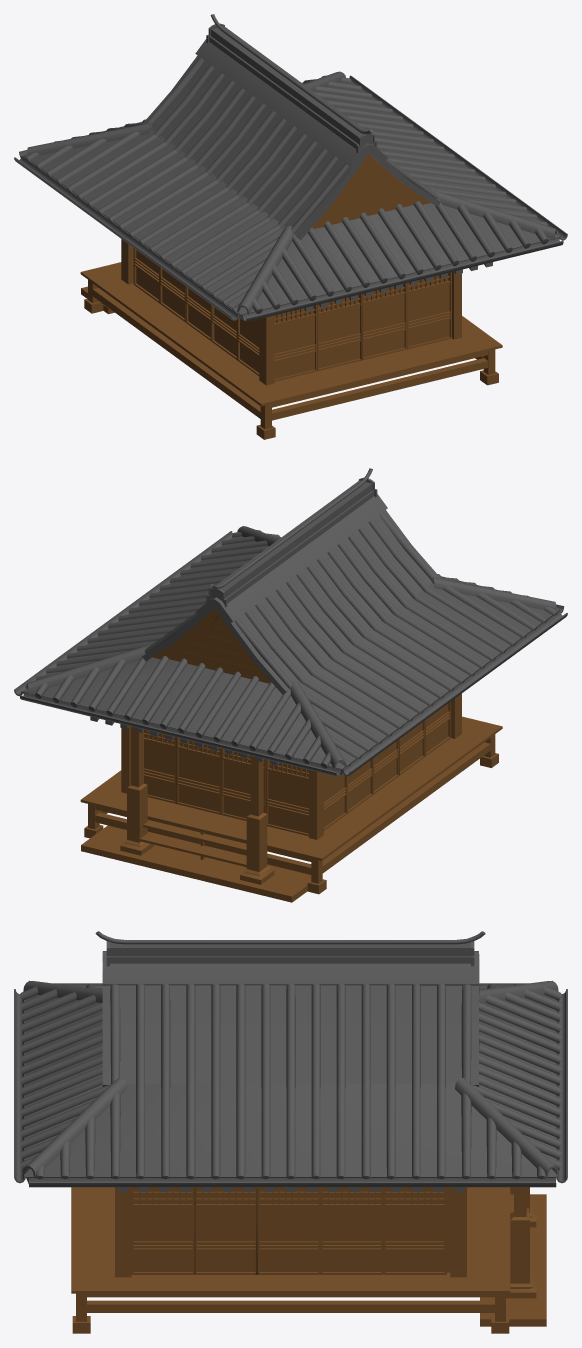
Rendered from mesh_house3.fbx.
3 views of the same model, one above another, from view 1: azimuth 30°, elevation 25°; view 2: azimuth 150°, elevation 25°; view 3: azimuth 270°, elevation 25° (orthographic). The views are drawn at different scales.
Parts seen in each view (by area): view 1: shrine_02_roof, shrine_02_wood; view 2: shrine_02_roof, shrine_02_wood; view 3: shrine_02_roof, shrine_02_wood.
Part boxes in pixels (bbox=[...]): shrine_02_roof: bbox=[14, 14, 567, 322]; shrine_02_wood: bbox=[80, 154, 502, 439]; shrine_02_roof: bbox=[14, 468, 567, 776]; shrine_02_wood: bbox=[80, 608, 502, 902]; shrine_02_roof: bbox=[14, 931, 567, 1191]; shrine_02_wood: bbox=[71, 1187, 546, 1333].
Size of the model in its own units: 7.01 by 5.44 by 8.22.
